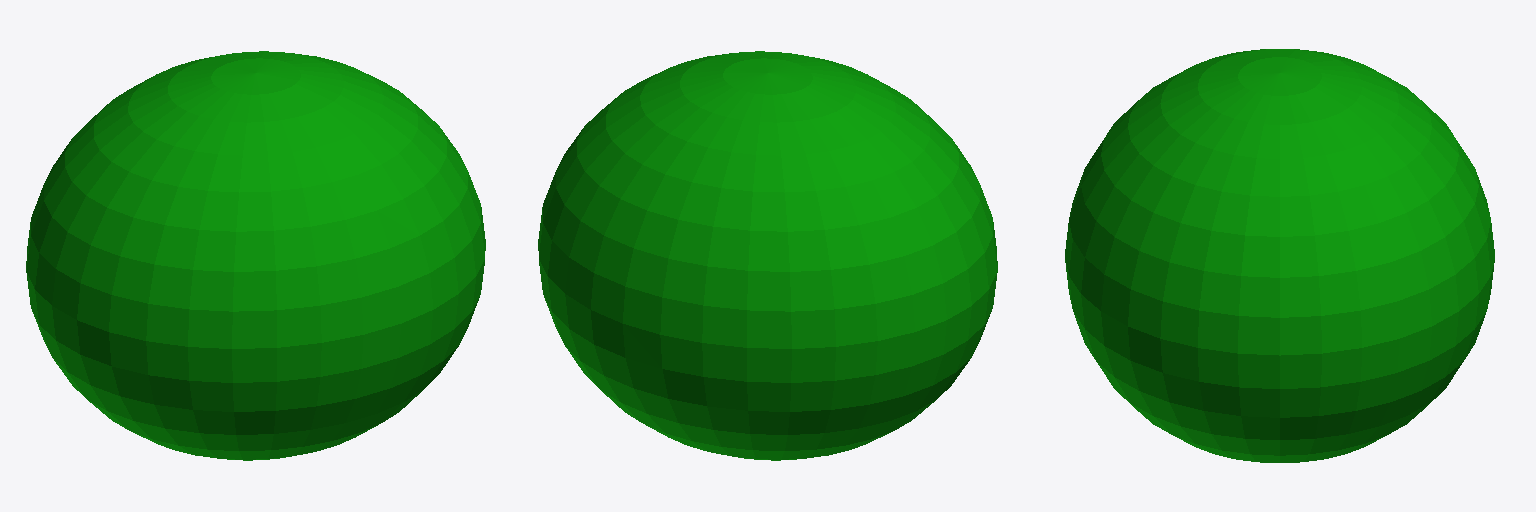
The model's file is moya_airpot_g.obj.
3 renders of one model, left to right at view 1: azimuth 30°, elevation 25°; view 2: azimuth 150°, elevation 25°; view 3: azimuth 270°, elevation 25°, orthographic.
Parts seen in each view (by area): view 1: Sphere_Sphere.005_Sphere_Sphere.008; view 2: Sphere_Sphere.005_Sphere_Sphere.008; view 3: Sphere_Sphere.005_Sphere_Sphere.008.
Part boxes in pixels (bbox=[...]): Sphere_Sphere.005_Sphere_Sphere.008: bbox=[26, 51, 485, 460]; Sphere_Sphere.005_Sphere_Sphere.008: bbox=[538, 51, 997, 460]; Sphere_Sphere.005_Sphere_Sphere.008: bbox=[1065, 49, 1494, 462].
Bounding box in the file's own units: 0.2297 × 0.1969 × 0.21.